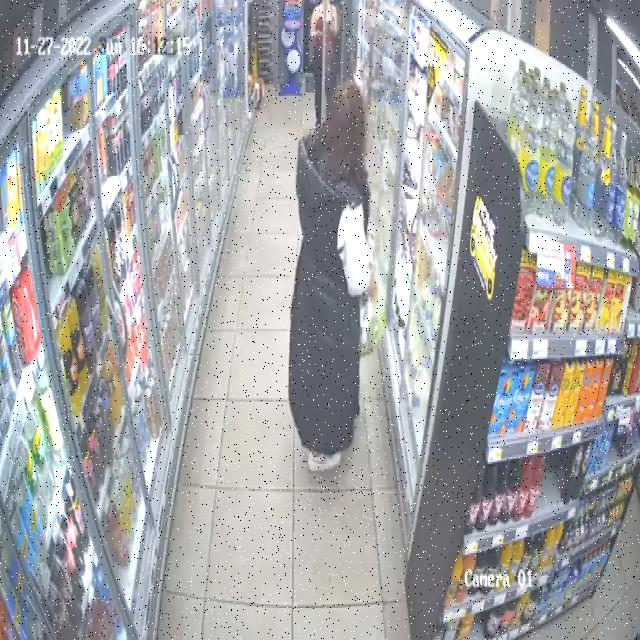bags: (360, 235, 386, 354)
person: (289, 82, 374, 469)
